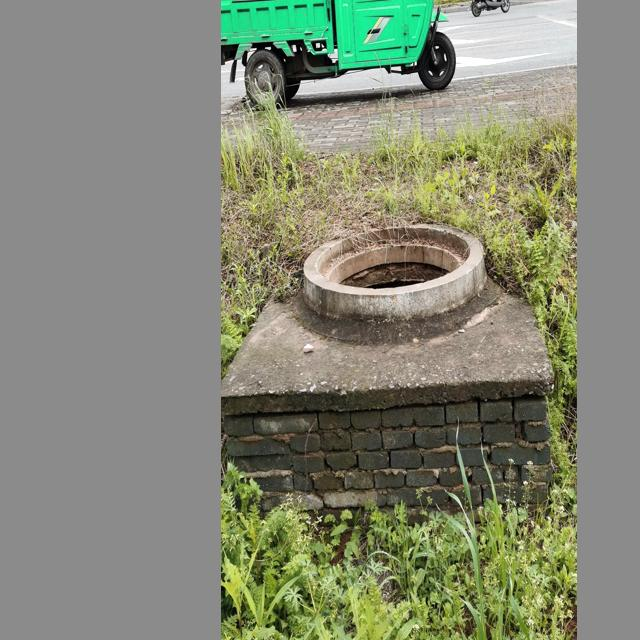lose: (306, 216, 485, 319)
